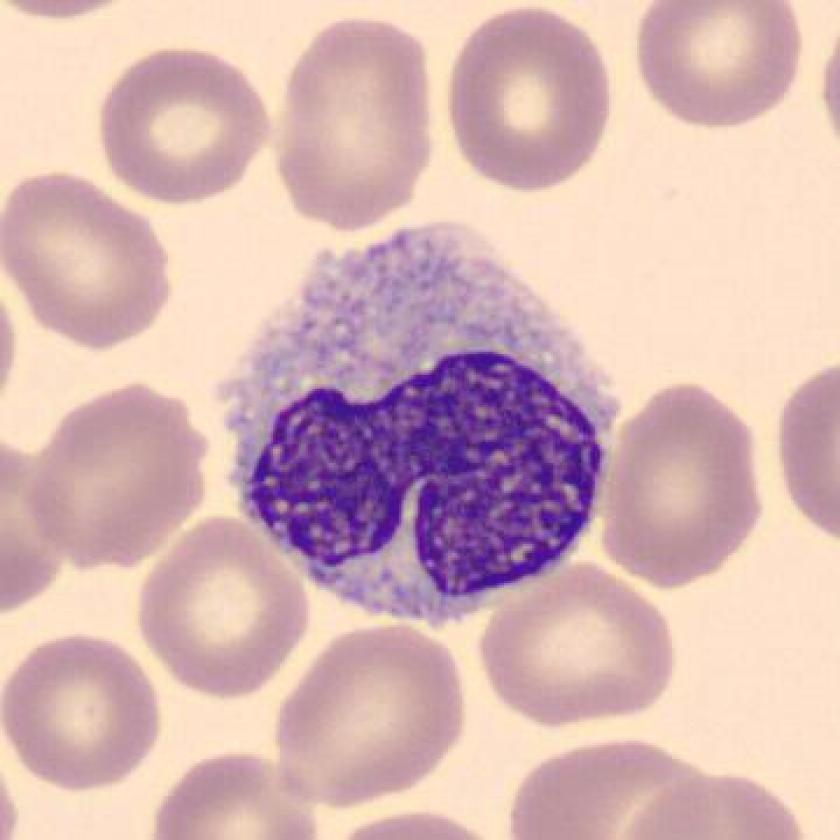monocyte: (195, 205, 638, 644)
